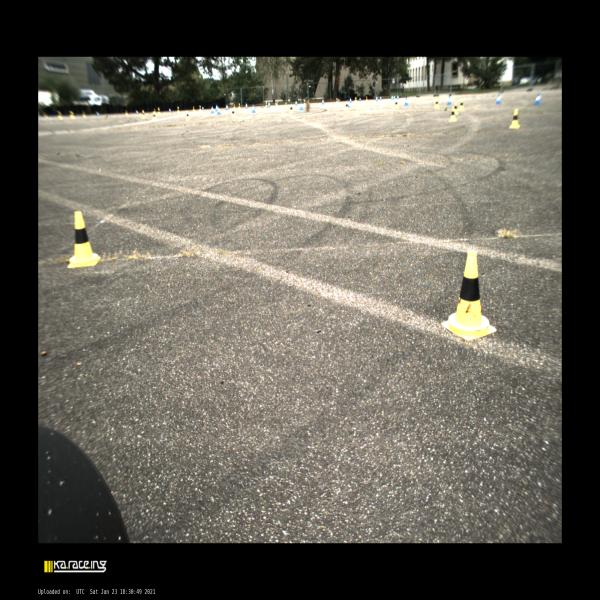blue_cone: (495, 92, 502, 105), (534, 91, 541, 104), (251, 104, 256, 113), (447, 96, 451, 106), (299, 102, 304, 110), (404, 97, 408, 106), (217, 106, 221, 115), (210, 106, 215, 113), (225, 104, 229, 110), (245, 102, 248, 109), (349, 97, 352, 103), (216, 104, 218, 112), (375, 96, 378, 101), (268, 101, 270, 108), (322, 99, 324, 105), (295, 100, 297, 106), (391, 95, 393, 100), (202, 106, 204, 111), (397, 96, 399, 100), (393, 96, 395, 100), (359, 98, 361, 102), (338, 99, 340, 102), (380, 96, 381, 100)
yellow_cone: (442, 249, 497, 341), (66, 210, 100, 269), (509, 108, 520, 129), (448, 105, 457, 122), (459, 98, 465, 112), (453, 101, 459, 115), (230, 108, 236, 119), (185, 110, 191, 121), (434, 98, 439, 110), (289, 103, 294, 114), (152, 111, 157, 121), (141, 110, 146, 119), (70, 112, 76, 119), (345, 101, 349, 111), (58, 111, 62, 120), (395, 99, 398, 109), (157, 108, 161, 115), (177, 106, 180, 114), (82, 112, 86, 117), (365, 96, 368, 102), (303, 99, 306, 105), (265, 101, 268, 107), (199, 105, 202, 111), (192, 106, 195, 112), (238, 103, 241, 109), (336, 98, 338, 104), (354, 97, 356, 102), (356, 97, 357, 102)
